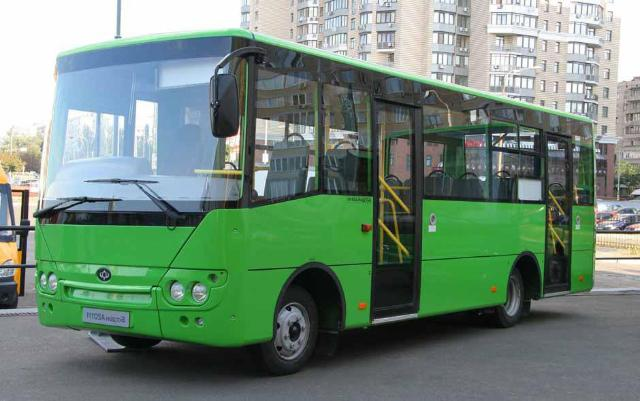bus: (33, 29, 598, 373)
